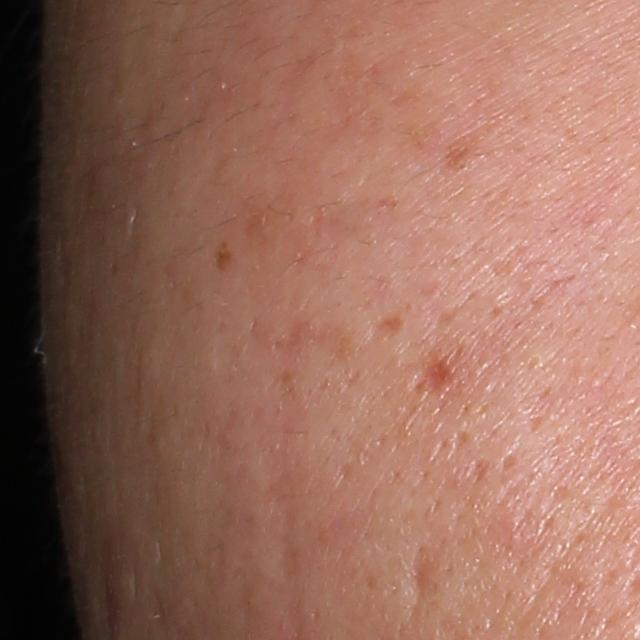atrophic_scar: (410, 539, 441, 602), (415, 355, 457, 396), (369, 307, 407, 341)
melasma: (215, 240, 237, 274)
